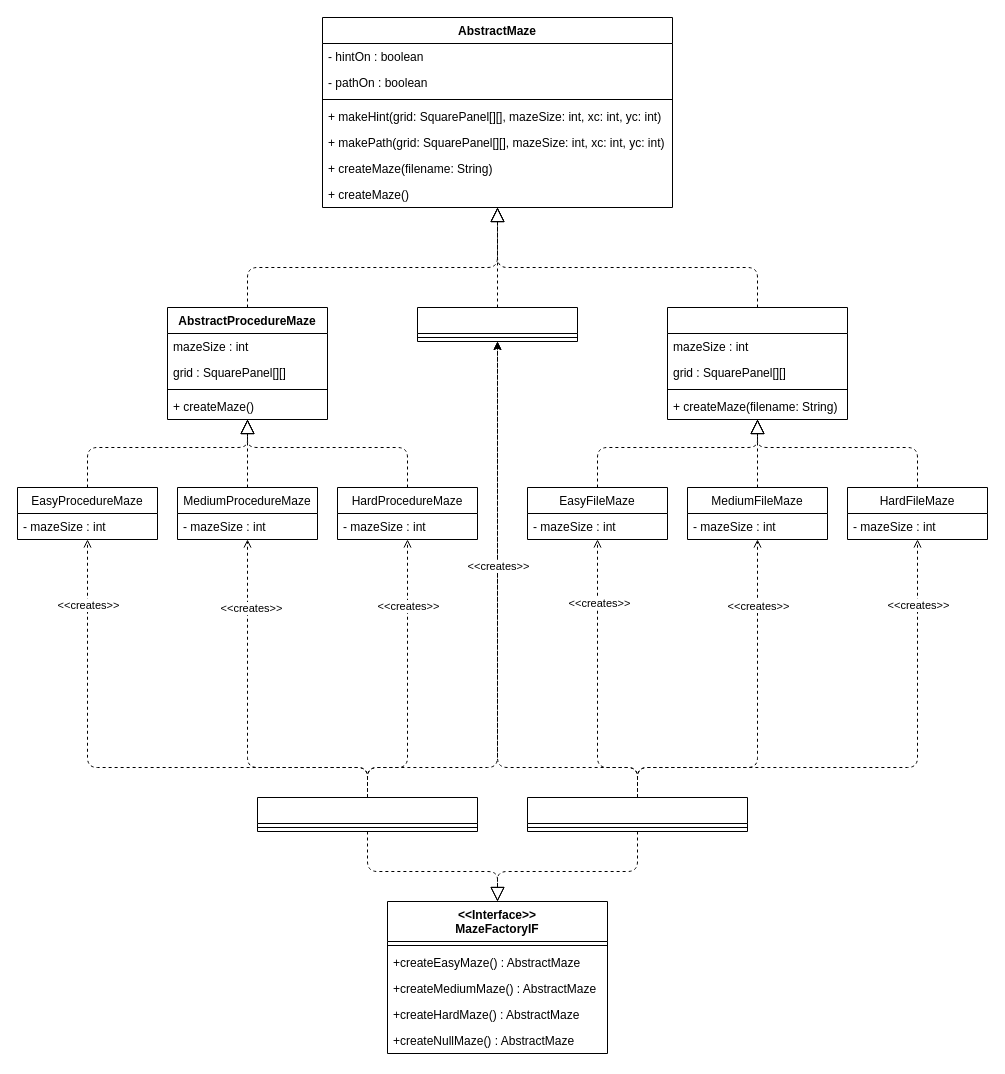
The diagram is 1005 pixels wide and 1074 high, and some of its shapes have lost their labels. The shapes that lost their labels are listed below. From the top down, each one's box as (x1, y1, x2, y2) in pixels, then its label:
(416, 306, 578, 342): NullMaze
(666, 306, 848, 420): AbstractFileMaze
(256, 796, 478, 832): ConcreteProcedureMazeFactory
(526, 796, 748, 832): ConcreteFileMazeFactory
